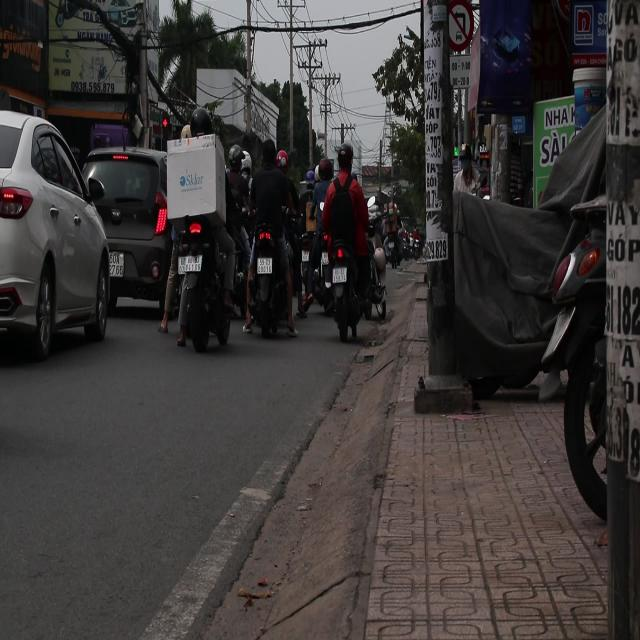car: (1, 107, 112, 366), (83, 148, 173, 314)
motorbike: (158, 132, 237, 347), (245, 186, 294, 352), (326, 230, 372, 343), (298, 216, 329, 324)
